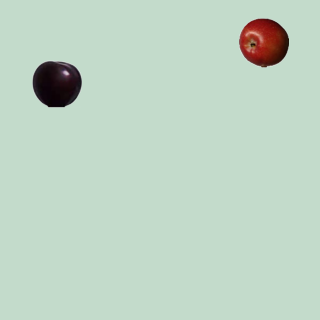Apple Braeburn: (238, 17, 288, 67)
Cherry Wax Black: (31, 58, 81, 108)
